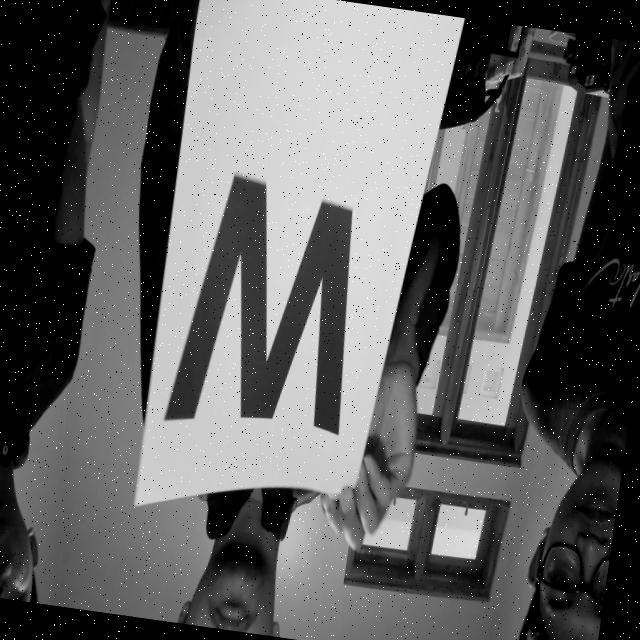w: (150, 150, 382, 462)
